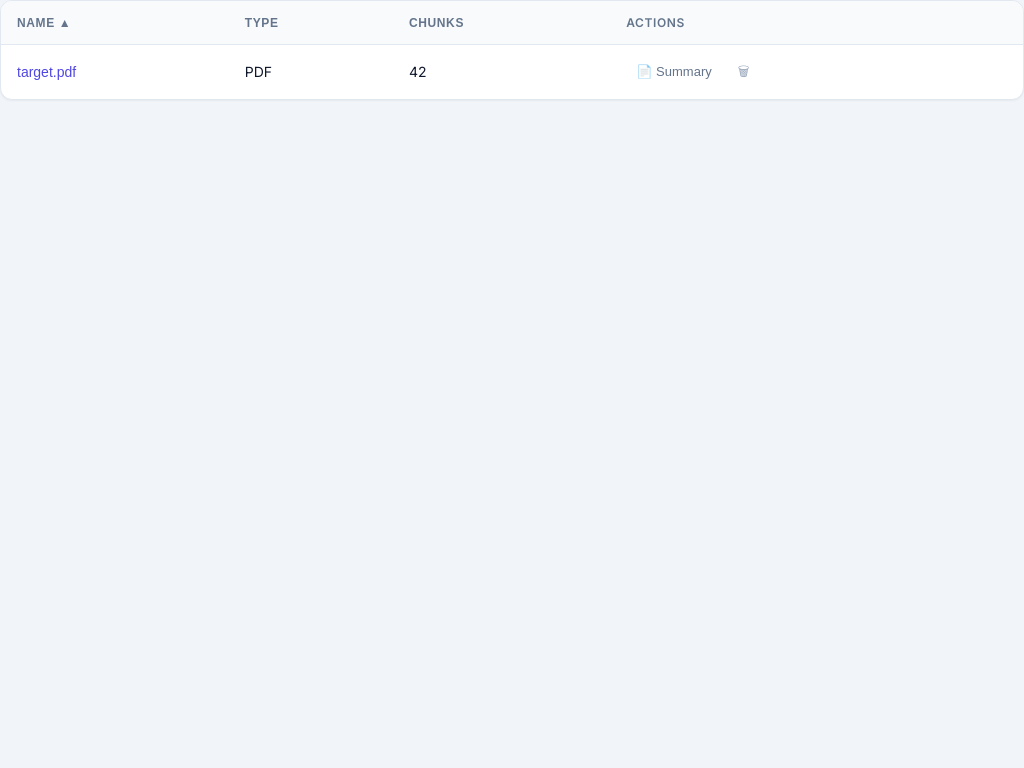
Scenario: DocumentTable — delete flow › hides dialog when Cancel clicked
Click the button named "delete target.pdf": (744, 72) [728,57,759,87]
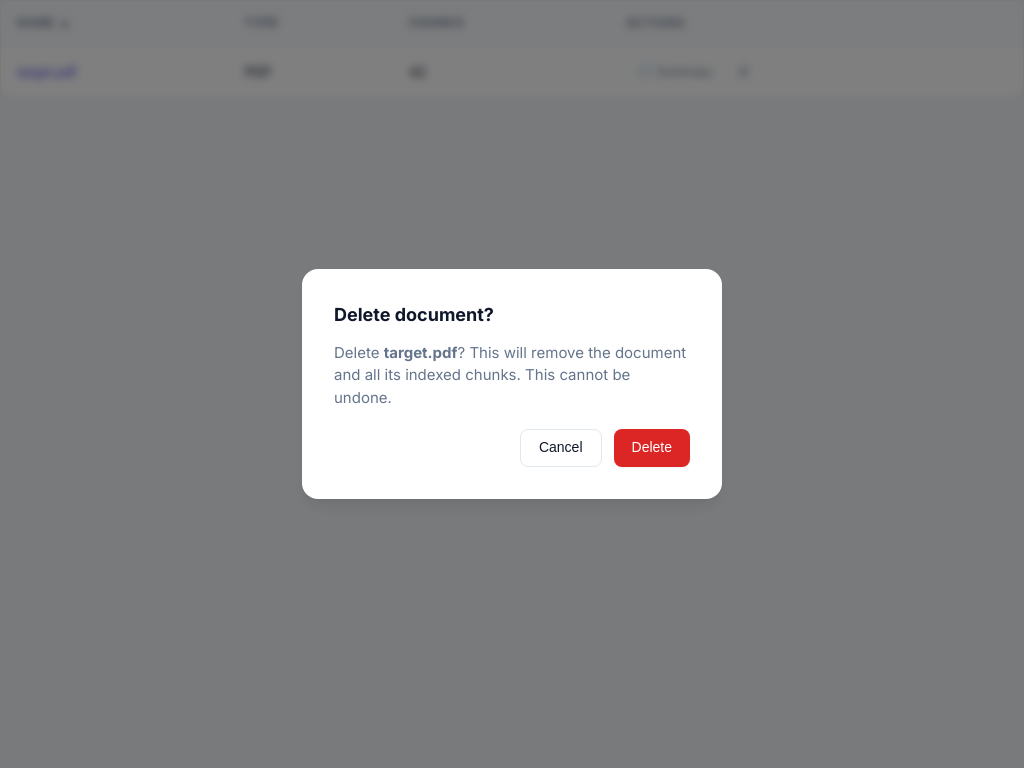
Click the button "Cancel": (561, 448) [520,429,602,467]
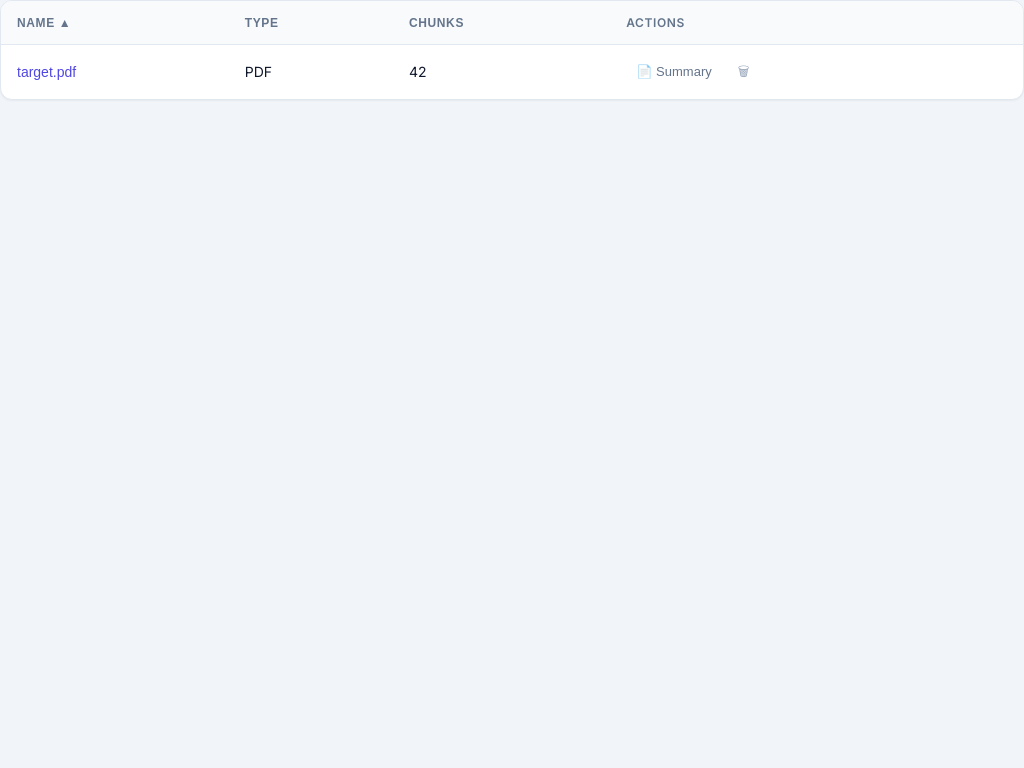
Expected: the dialog is gone
